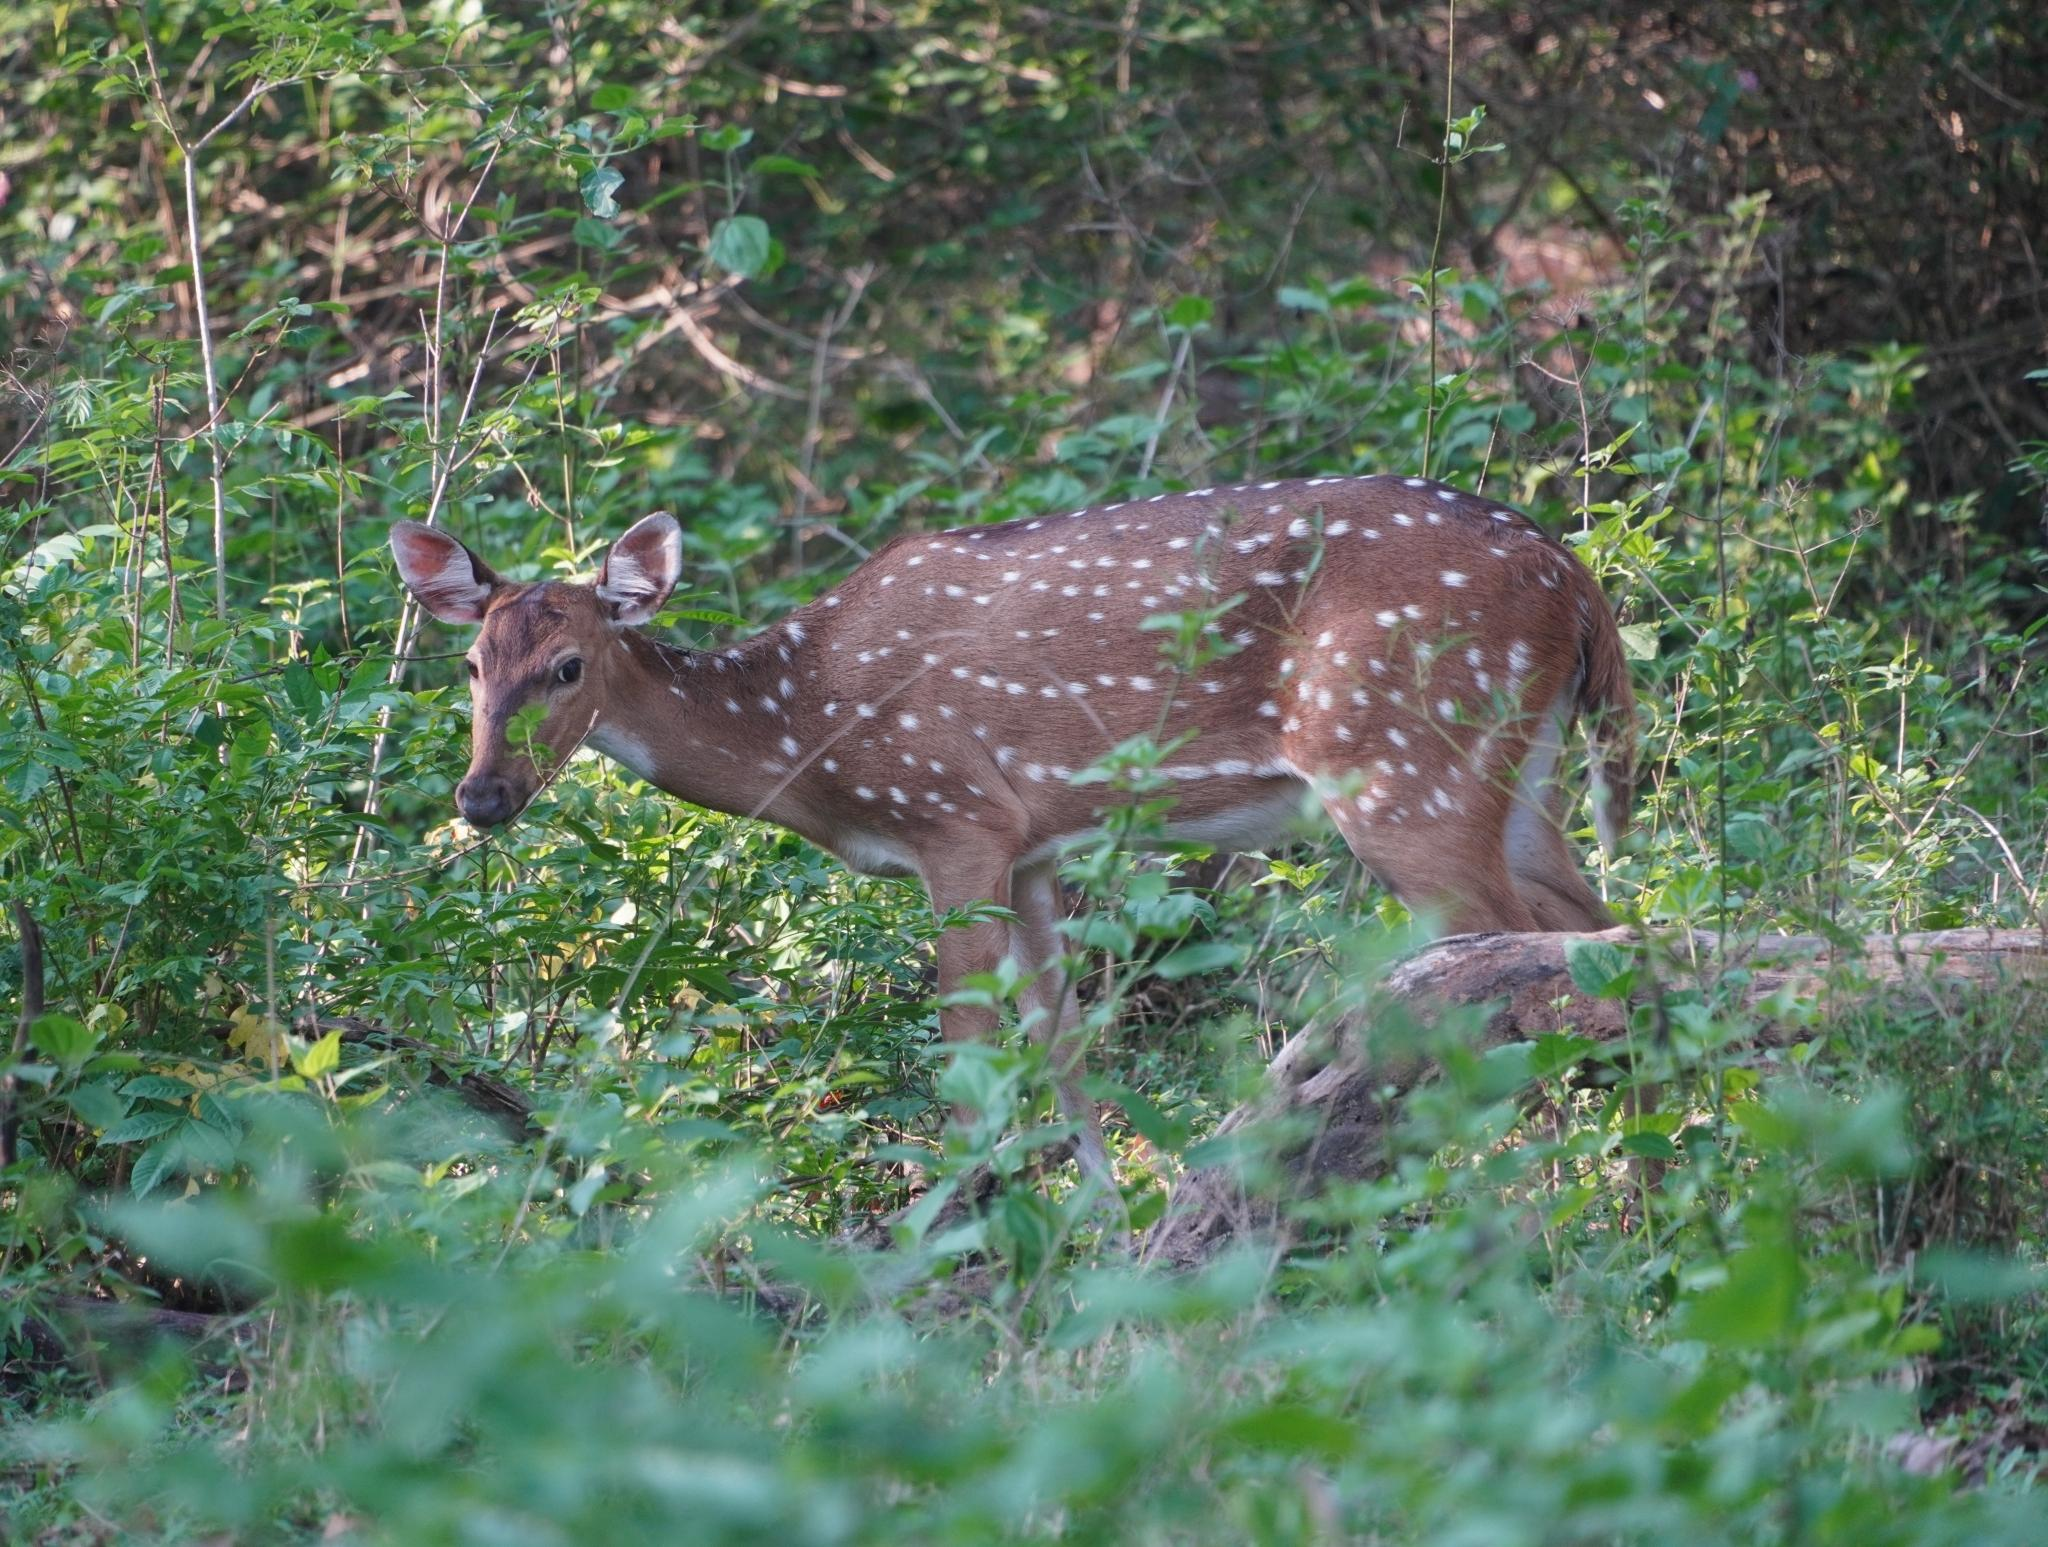Deer: (390, 474, 1637, 1116)
